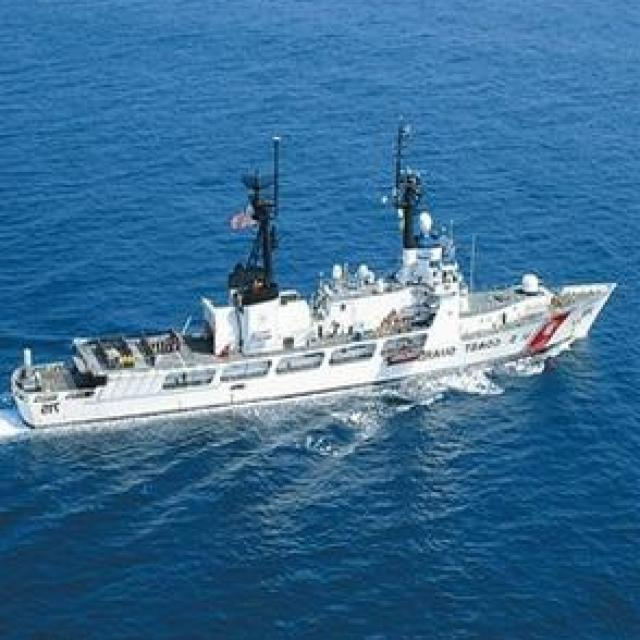navalvessels: (6, 118, 614, 426)
